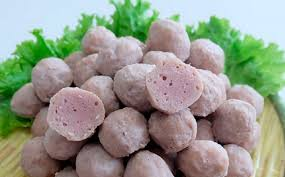bakso: (28, 25, 250, 177)
